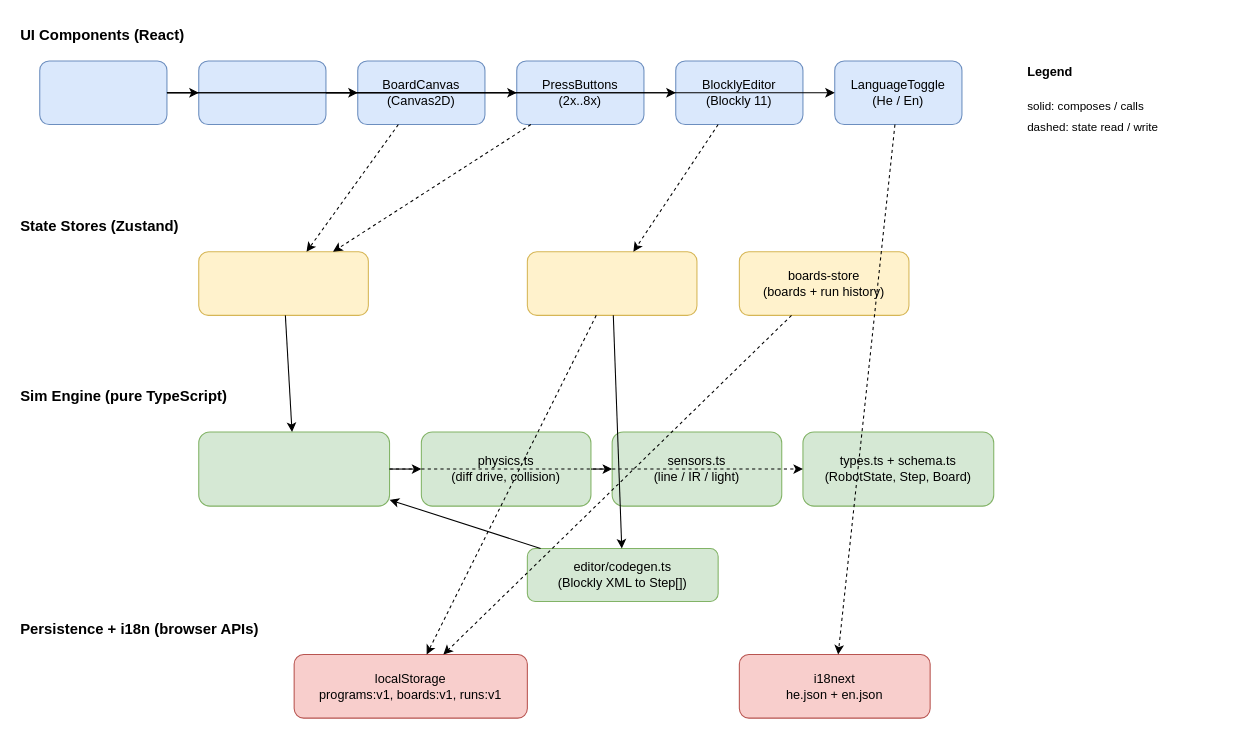
Image size: 1255x737. Some labels were removed from this diagram. The box of each missing label's shape, as (x1, y1, x2, y2) in pixels:
App.tsx: (39, 60, 167, 125)
editor-store (authored programs): (526, 251, 697, 315)
runtime.ts (Step executor, fixed-step loop): (198, 431, 390, 506)
sim-store (SimState, current run): (198, 251, 368, 315)
SimulatorView: (198, 60, 326, 125)
